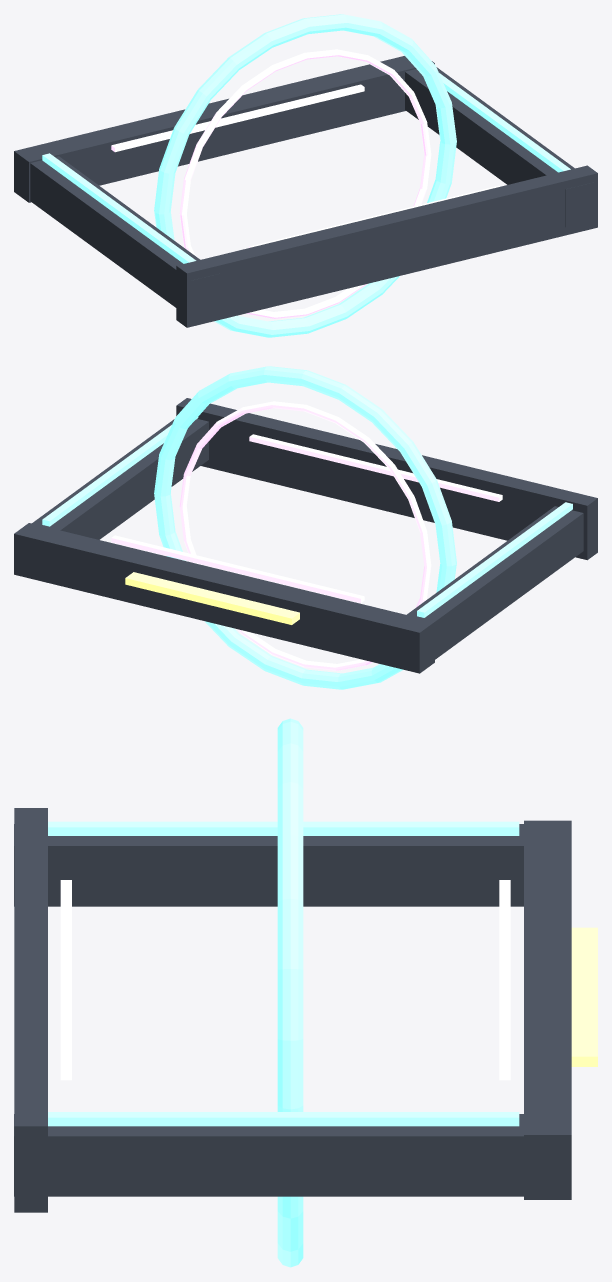
File: interact_end_portal.glb
3 views of the same model, one above another, from view 1: azimuth 30°, elevation 25°; view 2: azimuth 150°, elevation 25°; view 3: azimuth 270°, elevation 25° (orthographic). The views are drawn at different scales.
Visible parts, largest first — view 1: interact_end_portal; view 2: interact_end_portal; view 3: interact_end_portal.
Boxes of the visible parts, box(x1,y1,x2,y2) form: interact_end_portal: box(14, 14, 597, 337); interact_end_portal: box(14, 366, 597, 689); interact_end_portal: box(14, 718, 597, 1267).
Size of the model in its own units: 7.9 by 5.78 by 6.12.
